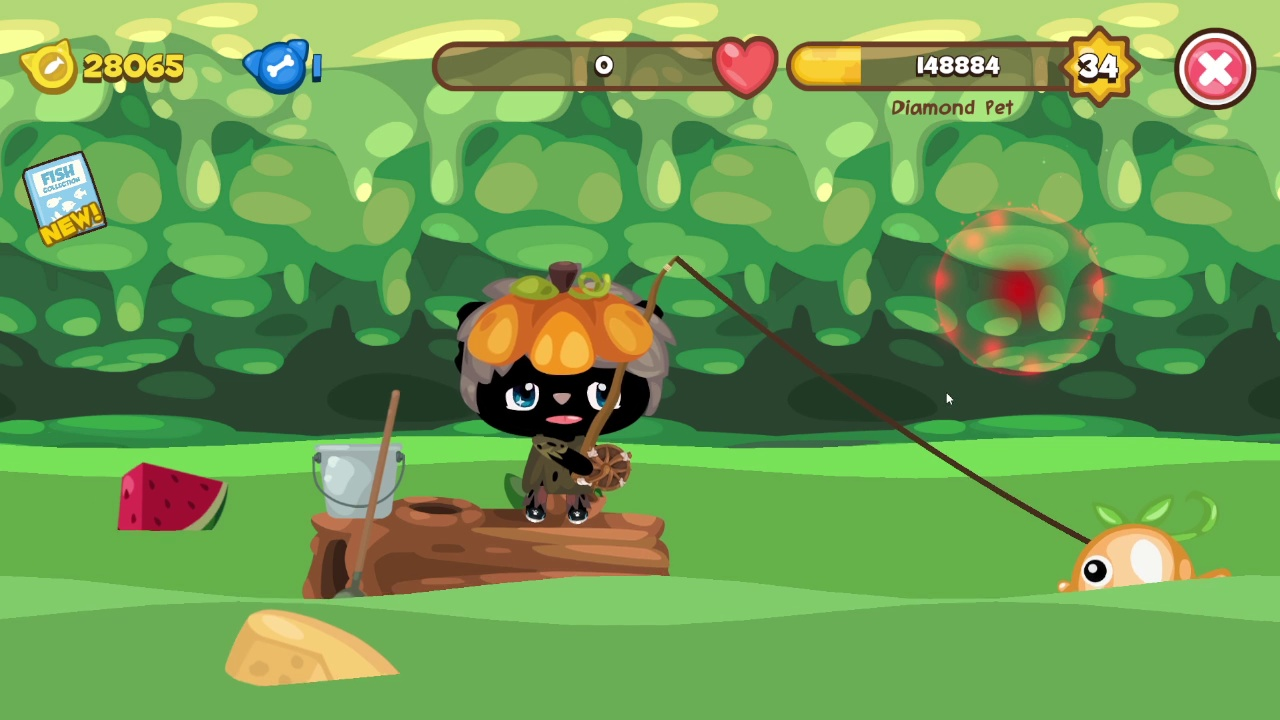point: (933, 205, 1108, 377)
